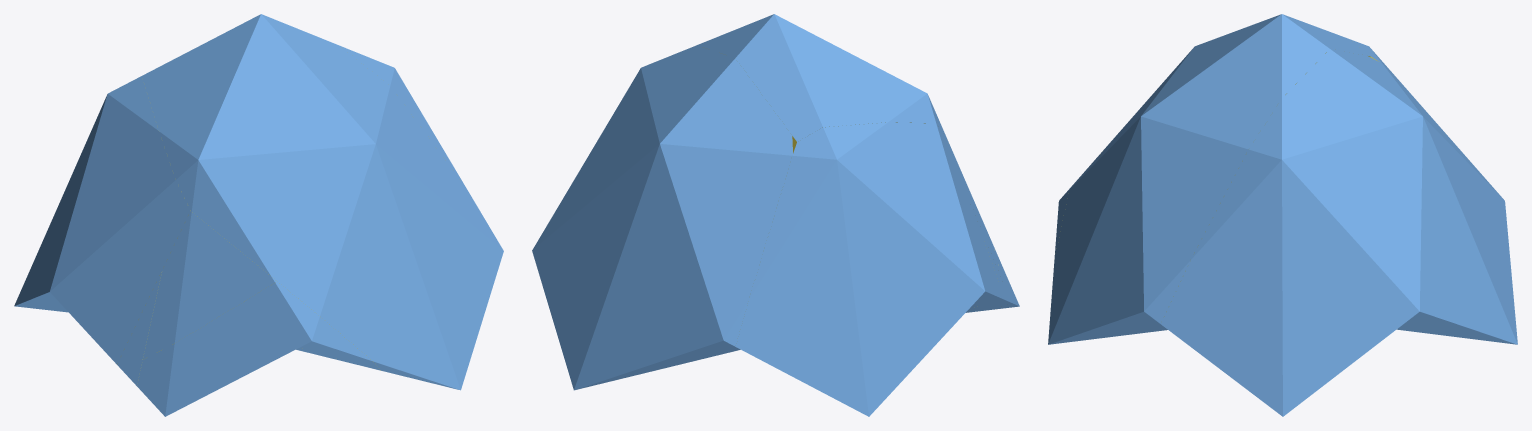
File: diamond.fbx
3 renders of one model, left to right at view 1: azimuth 30°, elevation 25°; view 2: azimuth 150°, elevation 25°; view 3: azimuth 270°, elevation 25°, orthographic. The views are drawn at different scales.
Parts seen in each view (by area): view 1: Icosphere_cell, Icosphere_cell.002, Icosphere_cell.004_cell.001_cell, Icosphere_cell.004_cell.001_cell.001, Icosphere_cell.004_cell, Icosphere_cell.001; view 2: Icosphere_cell.001, Icosphere_cell.002, Icosphere_cell, Icosphere_cell.004_cell.001_cell.001, Icosphere_cell.004_cell; view 3: Icosphere_cell.001, Icosphere_cell.
Part boxes in pixels (box(x1,y1,x2,y2)): Icosphere_cell: box(142, 14, 503, 390); Icosphere_cell.002: box(14, 76, 190, 364); Icosphere_cell.004_cell.001_cell: box(137, 281, 380, 416); Icosphere_cell.004_cell.001_cell.001: box(143, 211, 276, 359); Icosphere_cell.004_cell: box(117, 270, 355, 385); Icosphere_cell.001: box(339, 45, 465, 187); Icosphere_cell.001: box(532, 45, 792, 390); Icosphere_cell.002: box(735, 122, 1005, 416); Icosphere_cell: box(697, 14, 945, 153); Icosphere_cell.004_cell.001_cell.001: box(946, 136, 1001, 278); Icosphere_cell.004_cell: box(966, 201, 1011, 312); Icosphere_cell.001: box(1161, 49, 1517, 416); Icosphere_cell: box(1048, 14, 1370, 344).
Bounding box in the file's own units: 1777 × 1174 × 1698.
